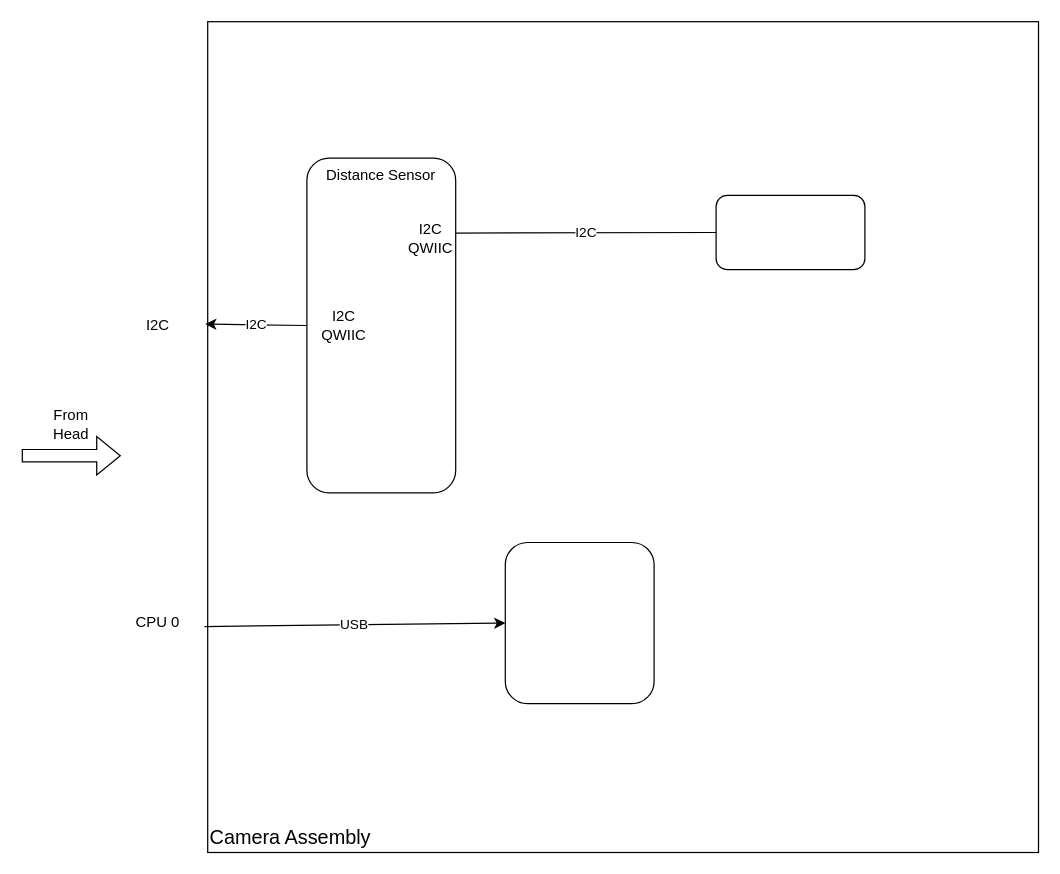
This 1060x874 diagram has some shape labels left out. The centre of each missing label's shape, as x and y in pixels:
"OAK-D 1 Camera" goes at (579,622).
"OLED Display" goes at (790,232).
